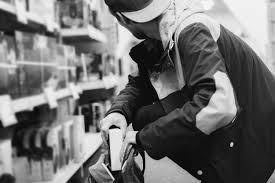shoplifting: (32, 68, 207, 183)
